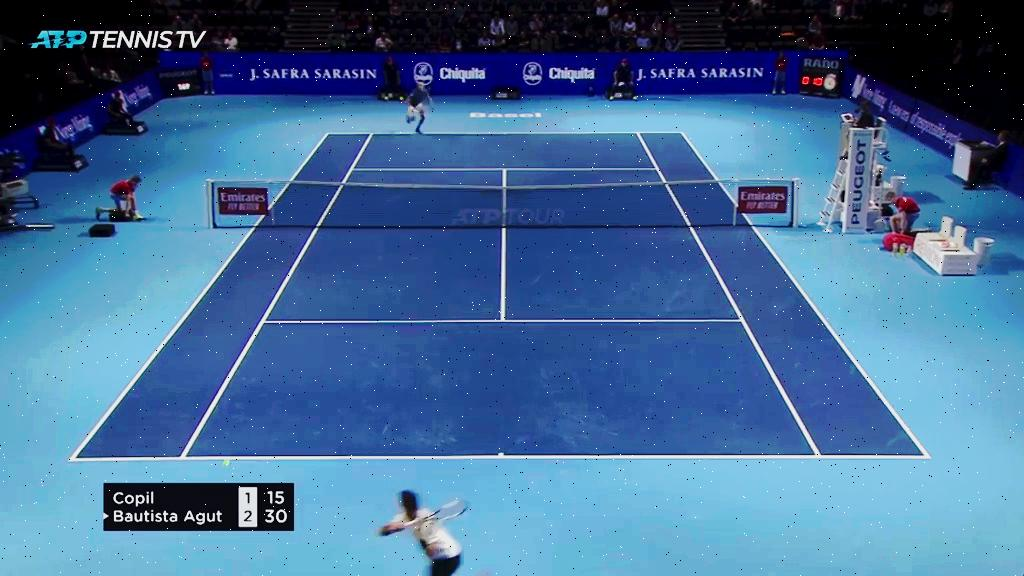tennis-court: (68, 132, 932, 461)
